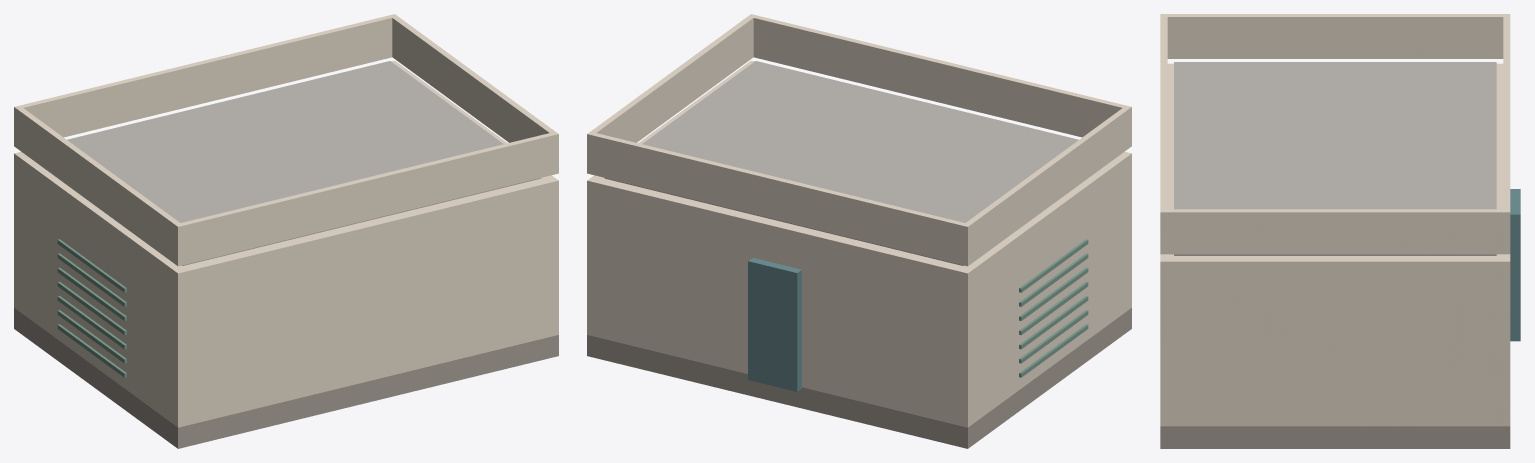
The model's file is commercial.glb.
3 renders of one model, left to right at view 1: azimuth 30°, elevation 25°; view 2: azimuth 150°, elevation 25°; view 3: azimuth 270°, elevation 25°, orthographic. The views are drawn at different scales.
Visible parts, largest first — view 1: lib_commercial; view 2: lib_commercial; view 3: lib_commercial.
Part boxes in pixels (bbox=[...]): lib_commercial: bbox=[14, 14, 558, 448]; lib_commercial: bbox=[587, 14, 1131, 448]; lib_commercial: bbox=[1160, 14, 1520, 448].
Size of the model in its own units: 7.98 by 4.39 by 6.05.
